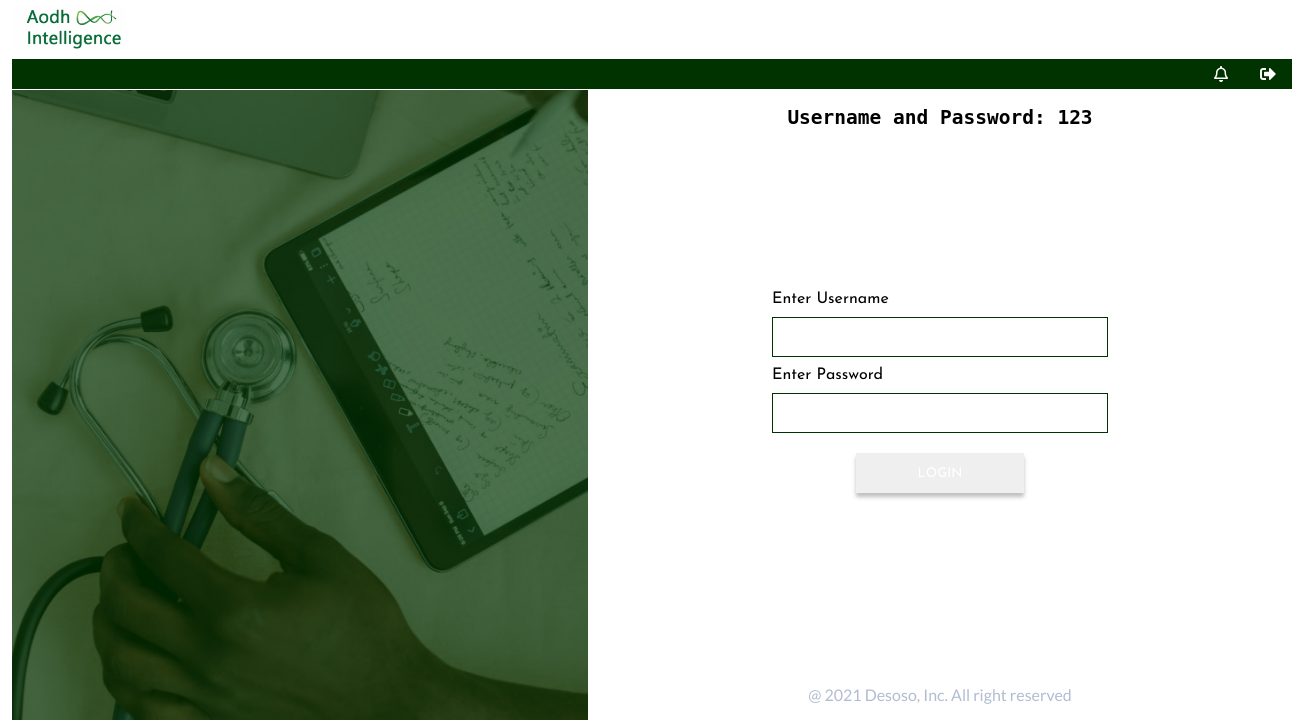
it: Is empty filed validation working
Click the button "LOGIN" at (940, 473), box [856,453,1024,493]
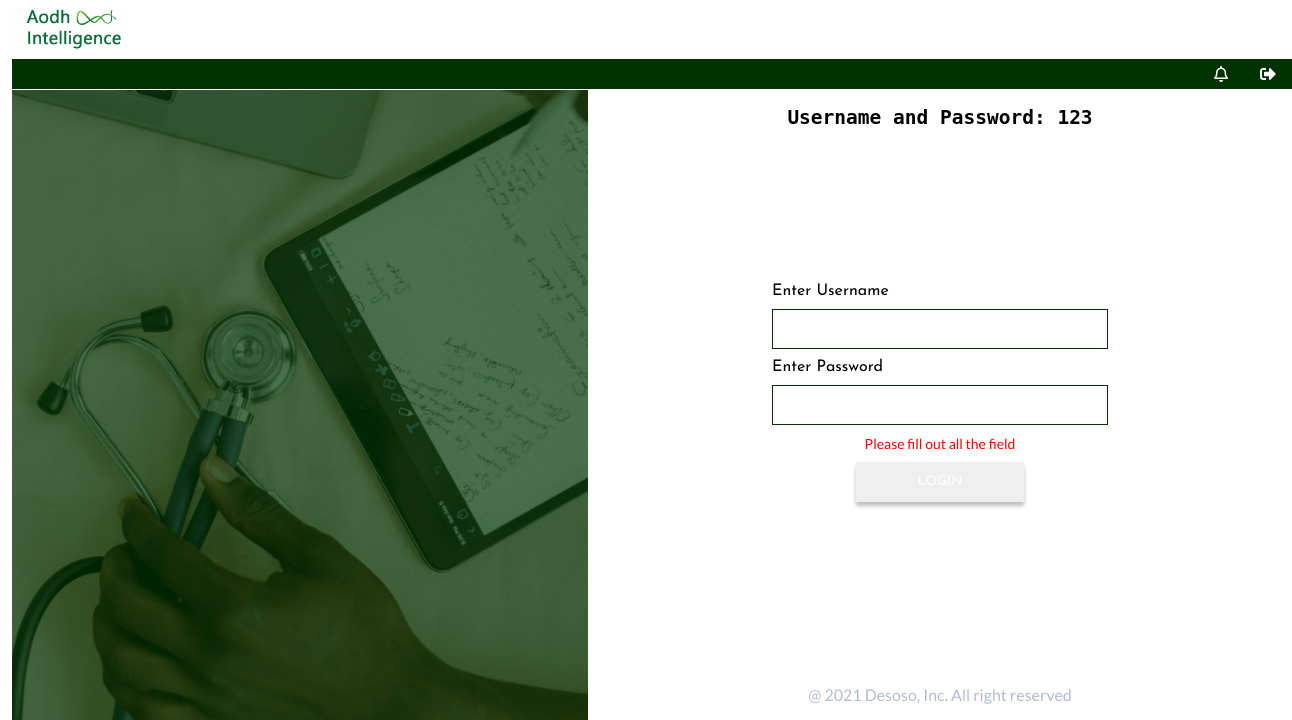
Expected: the message reads "Please fill out all the field", [865,434,1015,452]
